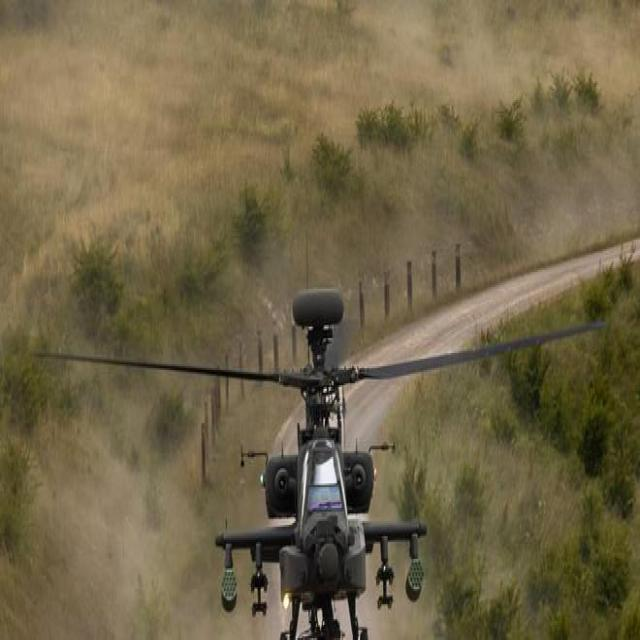MIL_HELO: (23, 288, 616, 638)
